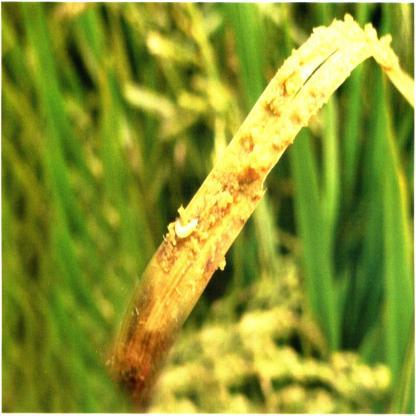whorl-maggot: (167, 215, 206, 247)
